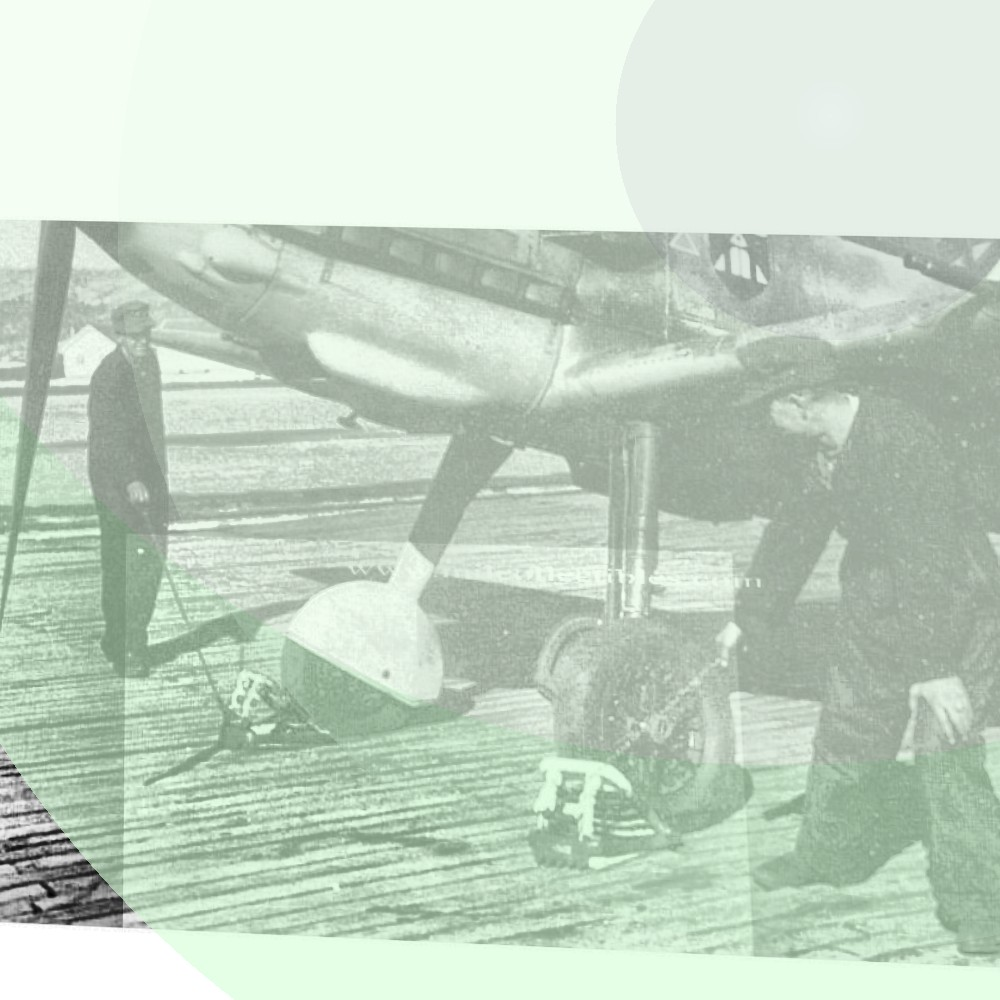chock: (525, 750, 691, 882), (212, 659, 331, 764)
wheel: (528, 610, 752, 836), (272, 567, 446, 739)
